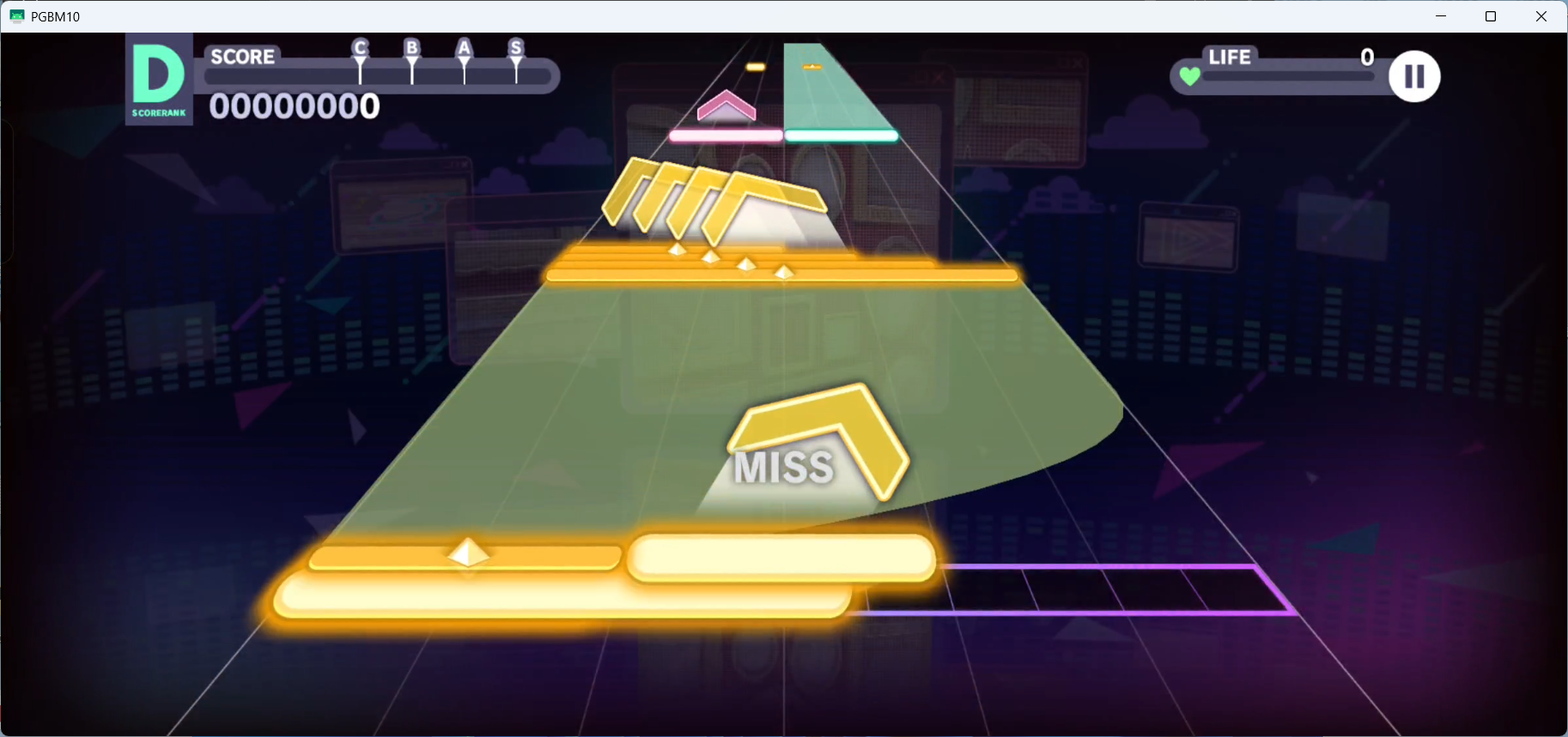flick: (688, 382, 909, 519), (702, 171, 848, 253), (633, 160, 696, 245), (601, 156, 662, 243), (666, 165, 731, 246), (696, 88, 755, 125)
hold: (320, 281, 1124, 540), (784, 42, 892, 128)
sweep: (307, 538, 621, 570), (544, 260, 1018, 281), (550, 257, 936, 270), (557, 251, 857, 261), (570, 244, 782, 253), (802, 63, 822, 70)
tap: (271, 567, 854, 619), (625, 533, 938, 581), (785, 129, 897, 142), (668, 130, 782, 141), (745, 63, 764, 72)
